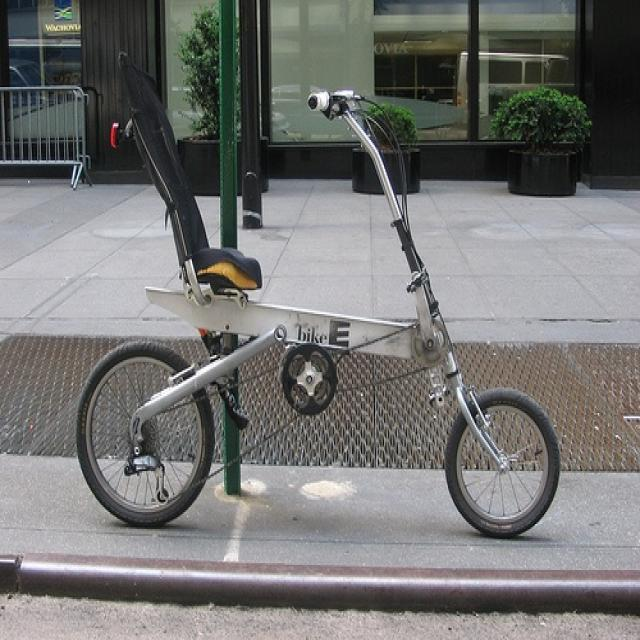bicycle: (73, 50, 562, 542)
pottedplant: (485, 84, 595, 198), (178, 7, 242, 194), (349, 102, 426, 196)
